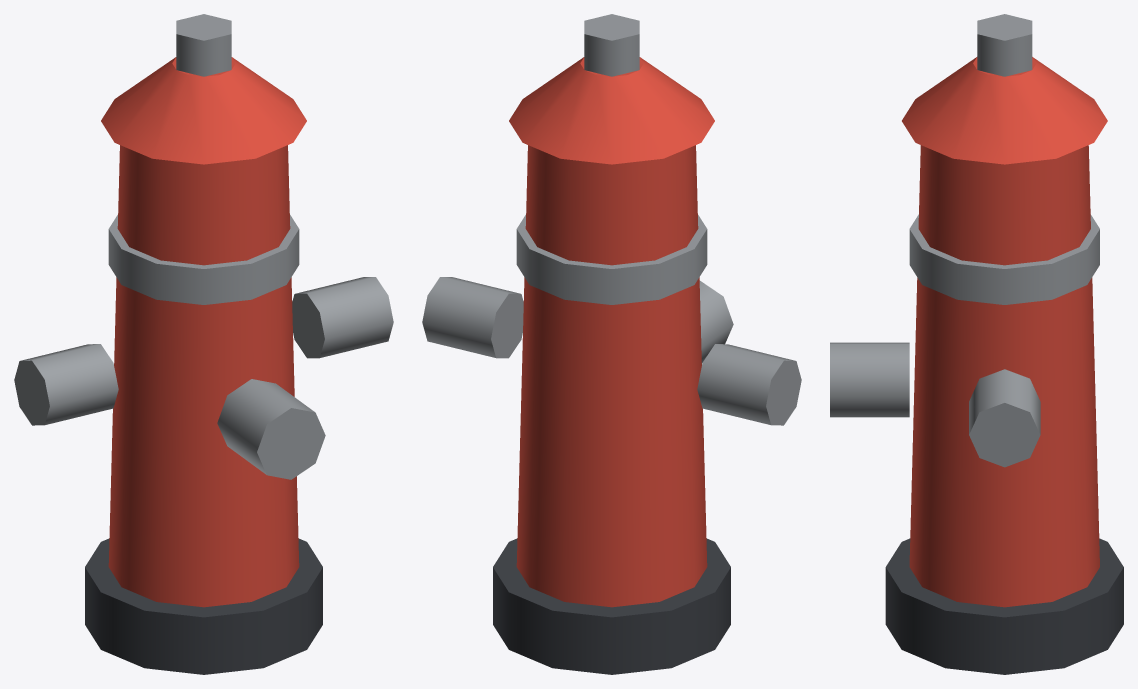
Rendered from prop_street_hydrant.glb.
3 renders of one model, left to right at view 1: azimuth 30°, elevation 25°; view 2: azimuth 150°, elevation 25°; view 3: azimuth 270°, elevation 25°, orthographic.
Visible parts, largest first — view 1: street_hydrant.001; view 2: street_hydrant.001; view 3: street_hydrant.001.
Boxes of the visible parts, bbox=[...] form: street_hydrant.001: bbox=[14, 14, 393, 674]; street_hydrant.001: bbox=[422, 14, 801, 674]; street_hydrant.001: bbox=[830, 14, 1123, 674].
Bounding box in the file's own units: 0.5 × 0.83 × 0.37.
